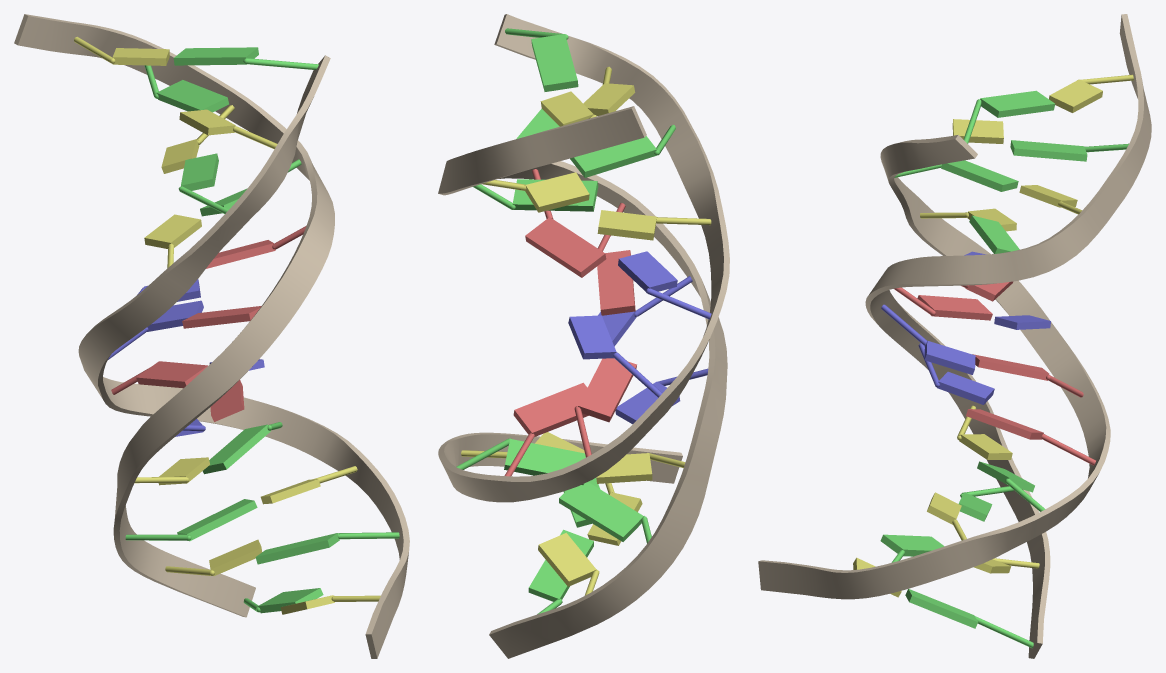
The model's file is PRP_DNA_lod.glb.
3 views of the same model, side by side, from view 1: azimuth 30°, elevation 25°; view 2: azimuth 150°, elevation 25°; view 3: azimuth 270°, elevation 25° (orthographic). The views are drawn at different scales.
Parts seen in each view (by area): view 1: Object_5; view 2: Object_5; view 3: Object_5.
Part boxes in pixels (x1,y1,x2,y2): Object_5: (14,14,409,658); Object_5: (438,14,729,658); Object_5: (758,14,1151,658).
Size of the model in its own units: 1.96 by 4.26 by 2.67.
